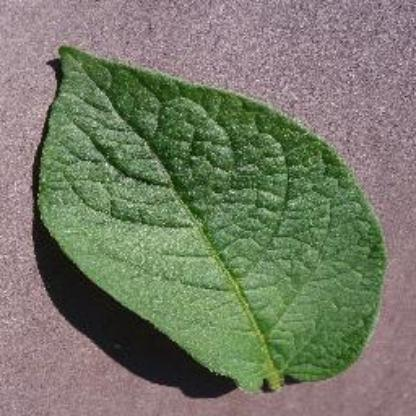Healthy-plant: (20, 31, 392, 407)
